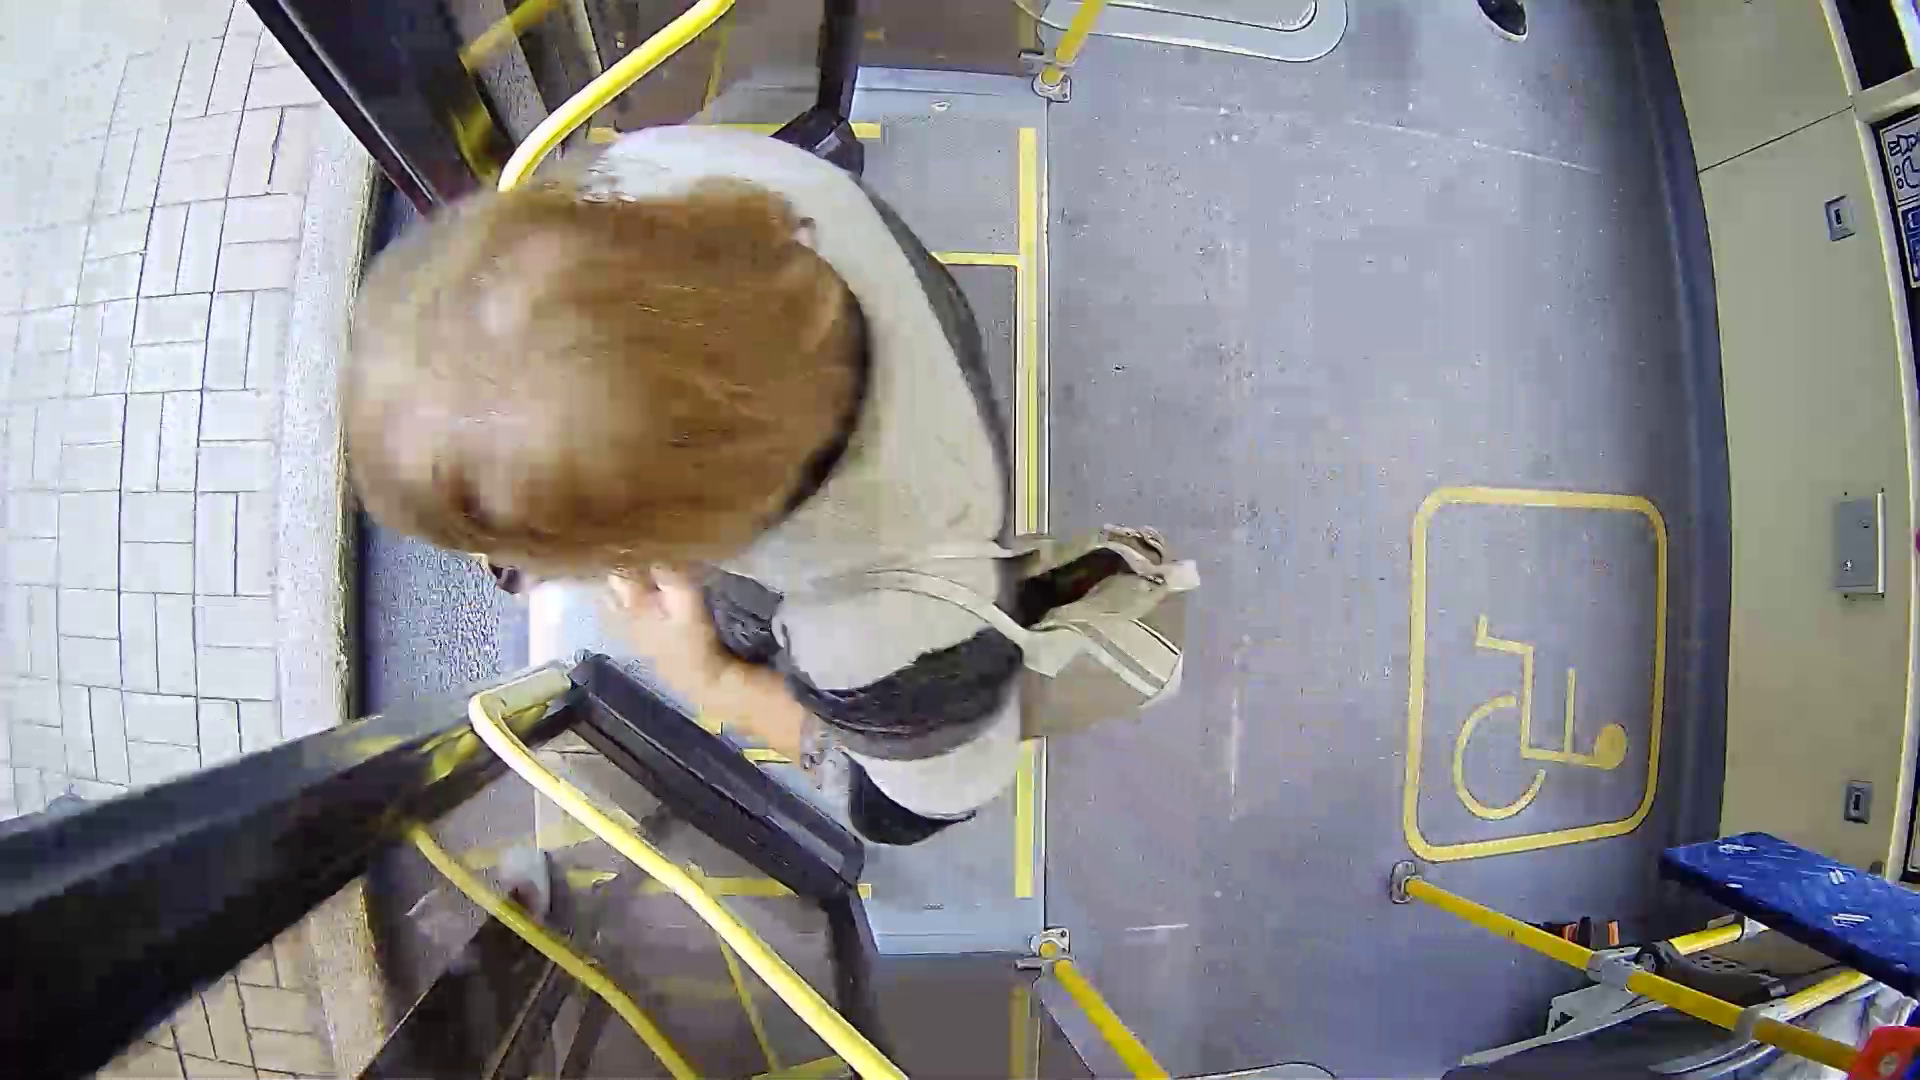person: (380, 72, 1201, 806)
